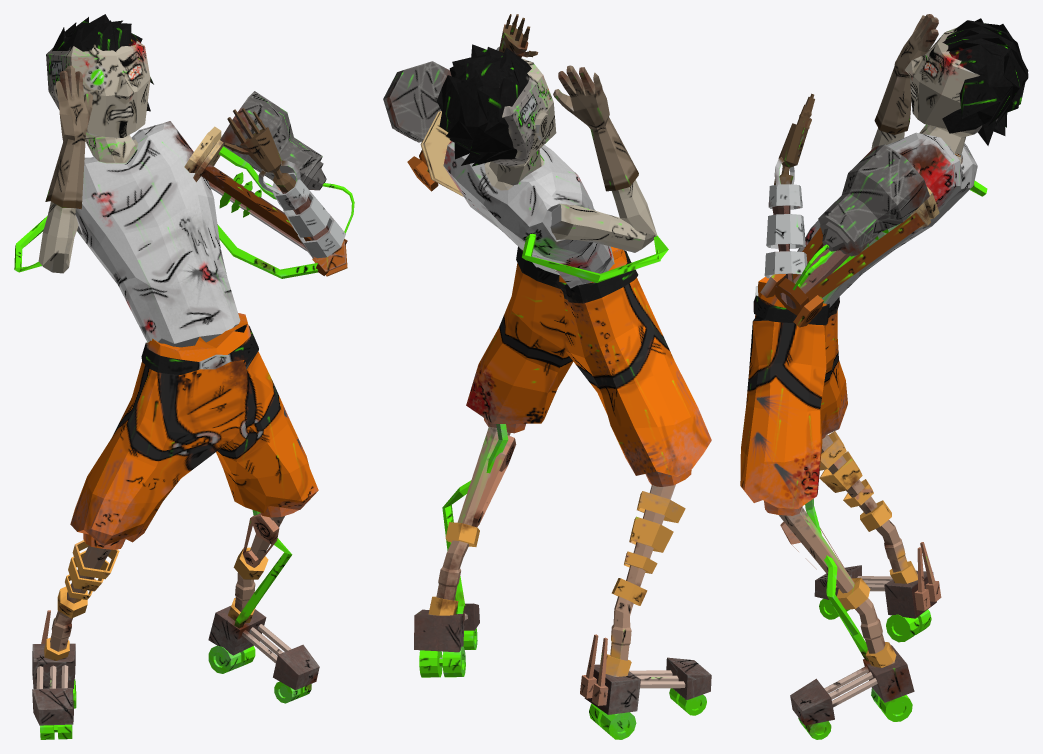
File: CyborgFINALAnimation_000012.obj
3 renders of one model, left to right at view 1: azimuth 30°, elevation 25°; view 2: azimuth 150°, elevation 25°; view 3: azimuth 270°, elevation 25°, orthographic. The views are drawn at different scales.
Visible parts, largest first — view 1: CyborgMesh_Cube.002; view 2: CyborgMesh_Cube.002; view 3: CyborgMesh_Cube.002.
Part boxes in pixels (x1,y1,x2,y2): CyborgMesh_Cube.002: [14, 14, 354, 739]; CyborgMesh_Cube.002: [383, 14, 711, 739]; CyborgMesh_Cube.002: [740, 14, 1028, 739].
Size of the model in its own units: 4.28 by 8.78 by 3.5.
